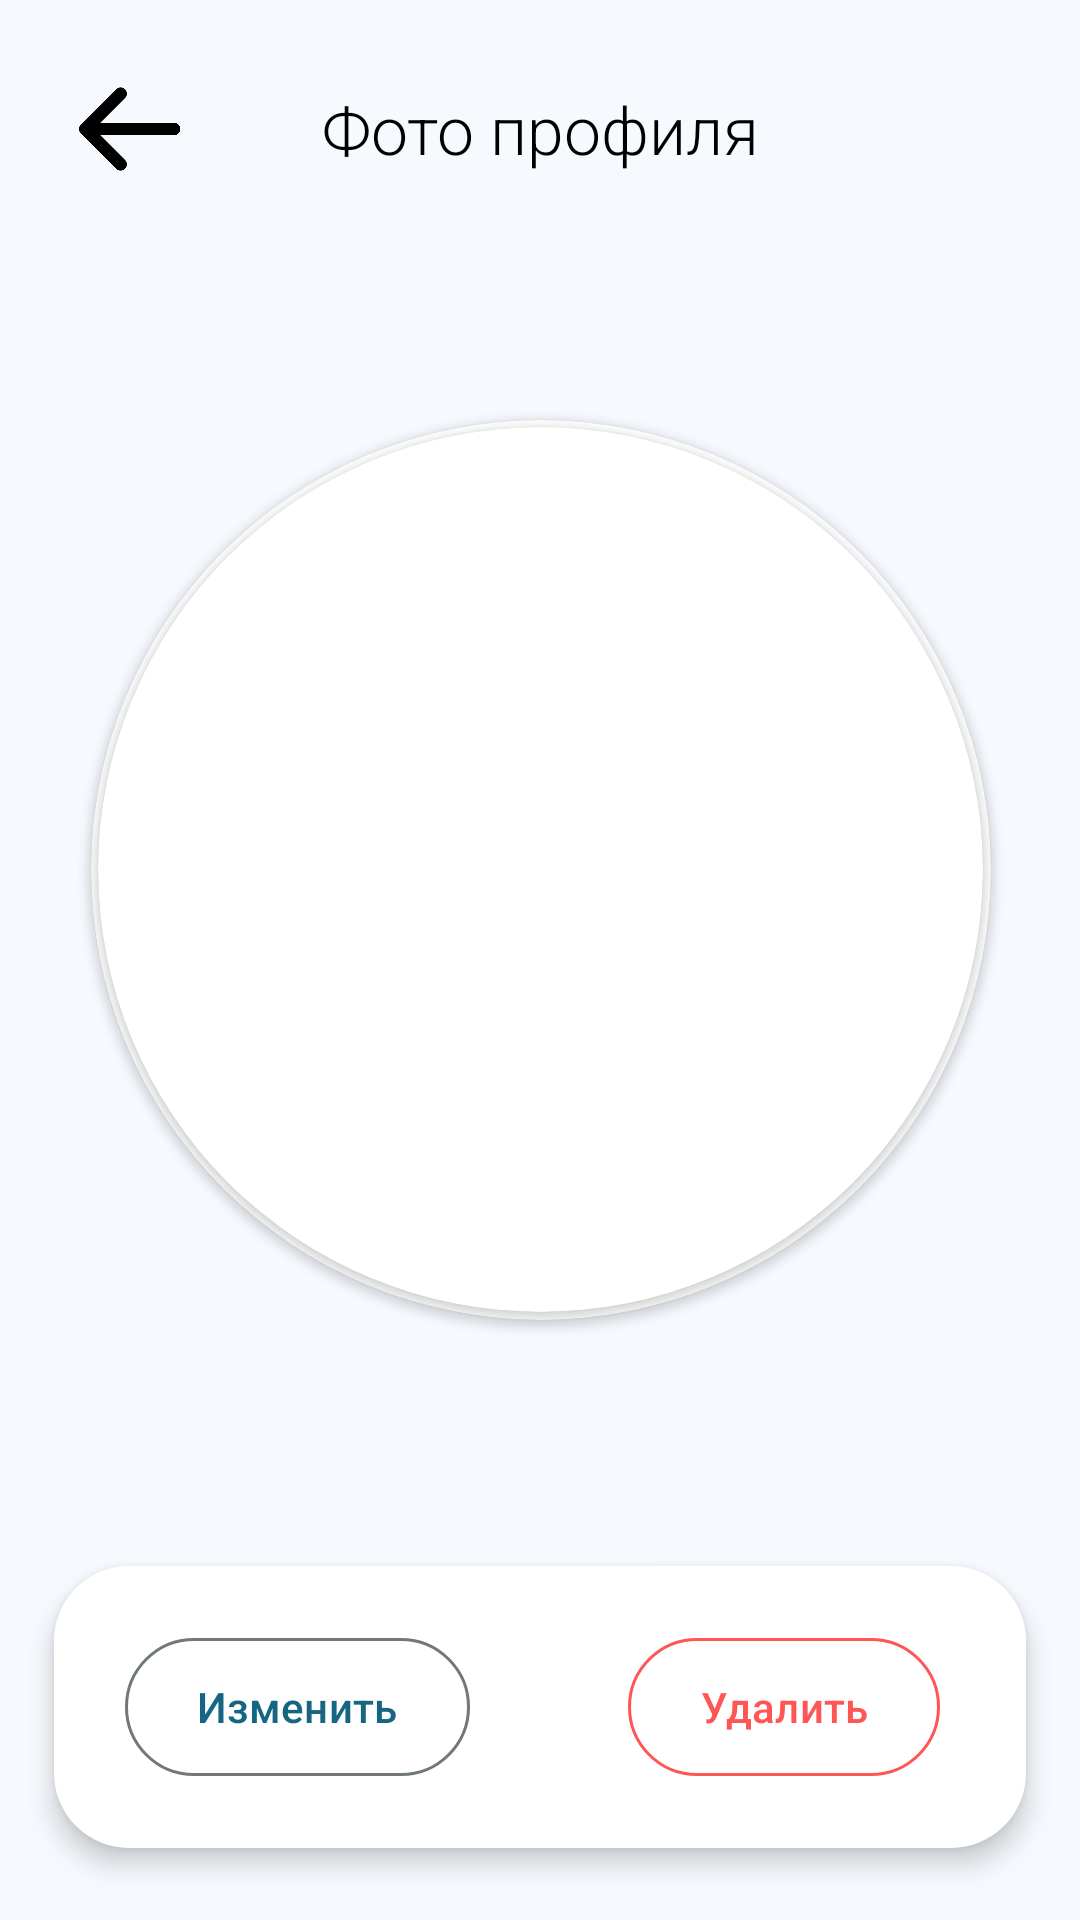

Where icons sit on this 1080px×1920px app screen, as box=[x1, y1, x2, y2]:
back: box=[79, 87, 180, 171]
